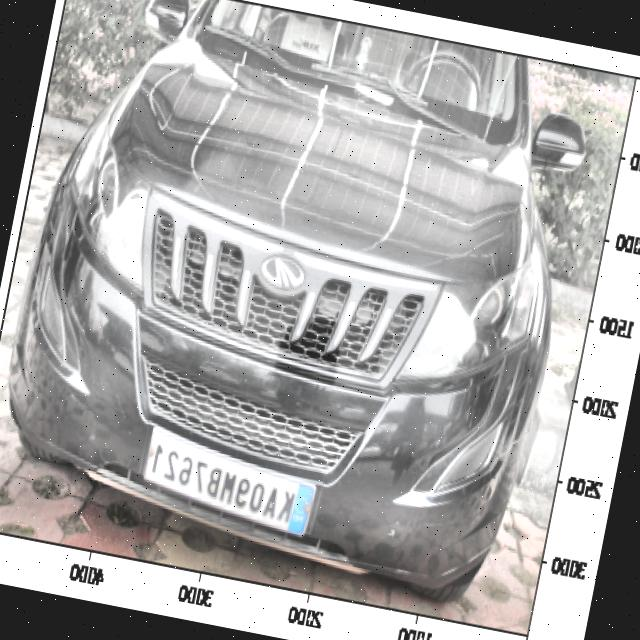license_plate: (136, 436, 306, 528)
